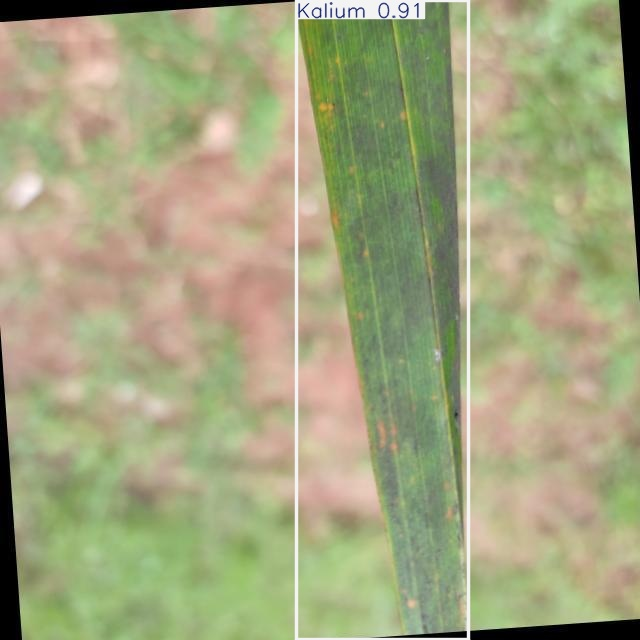Kalium: (297, 0, 468, 640)
